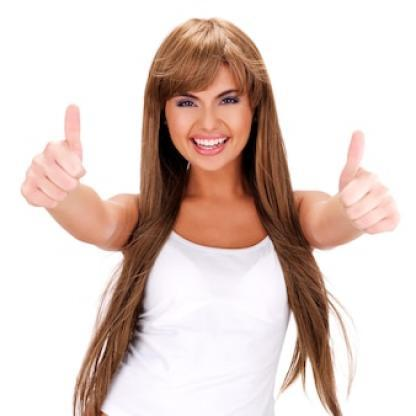thumb_up: (17, 100, 93, 214), (338, 124, 403, 240)
